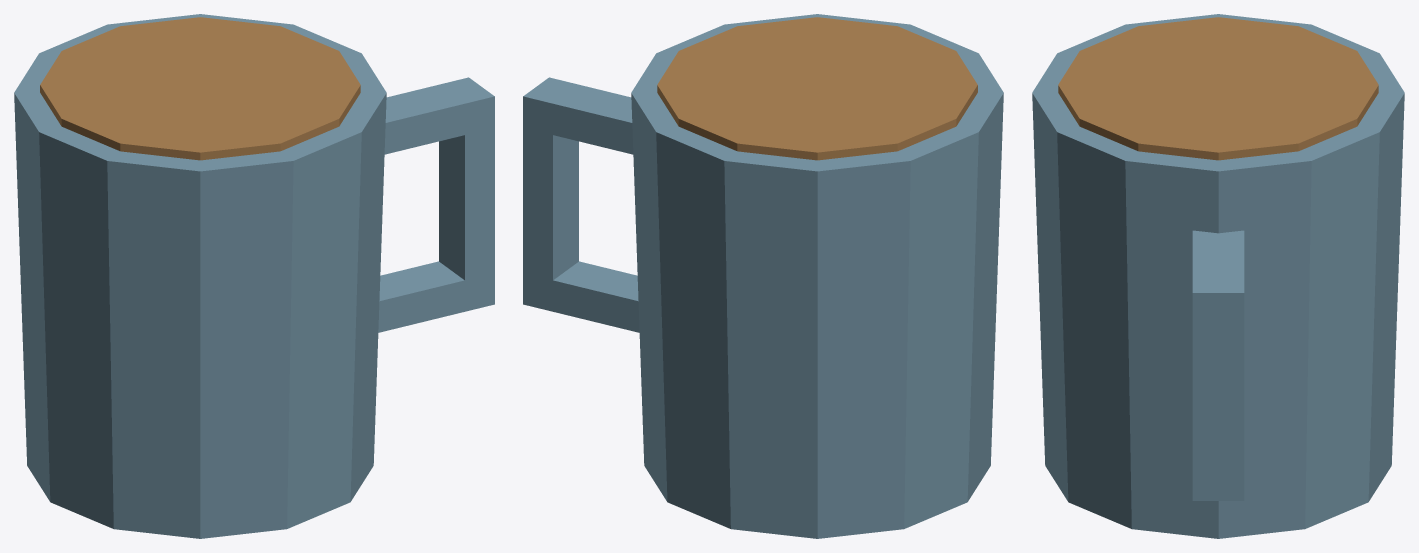
The picture shows the model from 3 angles, left to right: view 1: azimuth 30°, elevation 25°; view 2: azimuth 150°, elevation 25°; view 3: azimuth 270°, elevation 25°; orthographic projection.
Bounding box in the file's own units: 0.118 × 0.097 × 0.086.
